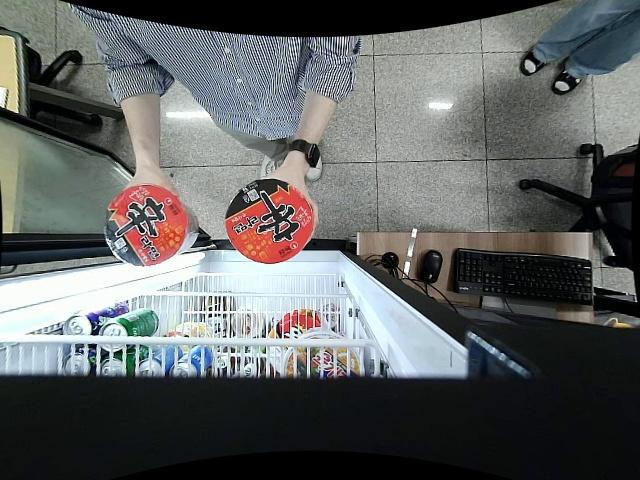00_hand: (261, 171, 321, 249), (122, 171, 179, 200)
01_shinRamen_L: (224, 178, 317, 264), (105, 184, 188, 269)
